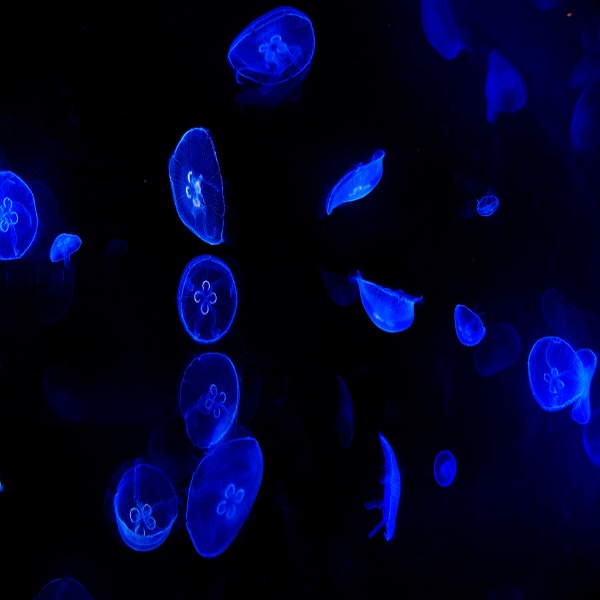Jellyfish: (184, 437, 264, 562), (225, 5, 316, 95), (168, 124, 227, 241), (115, 456, 180, 552), (178, 350, 238, 448), (175, 256, 237, 345), (534, 330, 591, 425), (353, 271, 421, 336), (325, 149, 385, 218), (367, 431, 403, 545), (0, 173, 39, 262), (418, 0, 465, 63), (485, 53, 526, 123), (474, 323, 523, 378), (570, 83, 599, 150), (453, 301, 483, 345), (52, 230, 83, 271), (581, 404, 599, 463), (432, 448, 455, 488), (475, 193, 497, 217)
